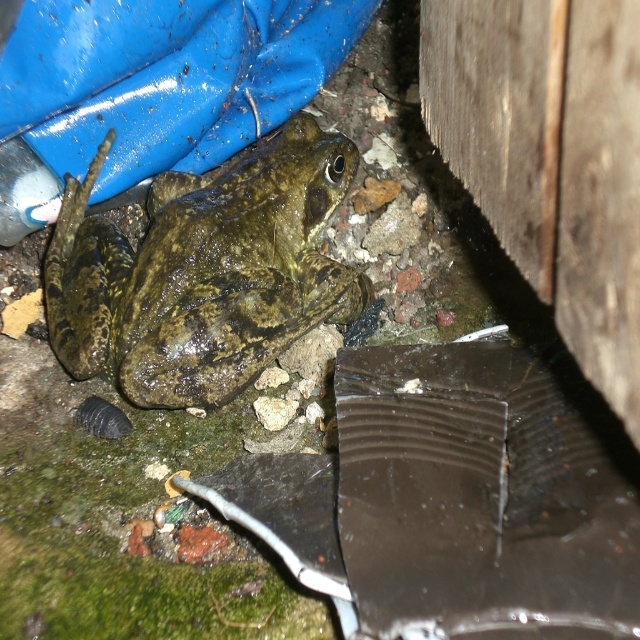Frog: (43, 107, 375, 409)
